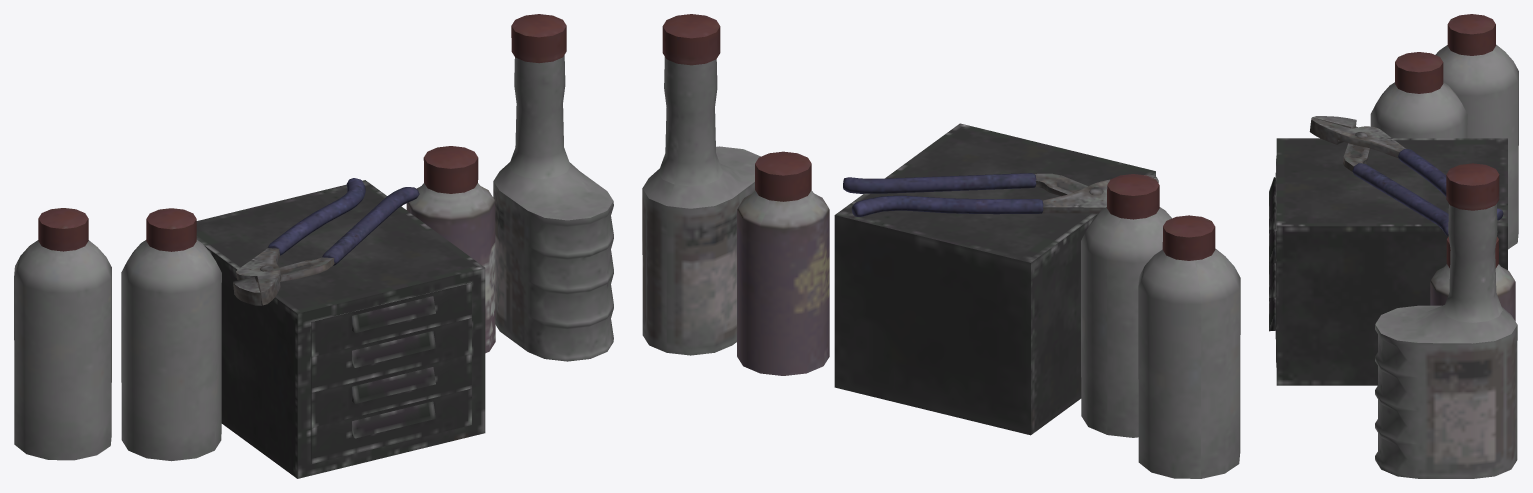
The model's file is sm36_095_tools02a.fbx.
3 views of the same model, side by side, from view 1: azimuth 30°, elevation 25°; view 2: azimuth 150°, elevation 25°; view 3: azimuth 270°, elevation 25° (orthographic). The views are drawn at different scales.
Parts seen in each view (by area): view 1: LOD_1_Group_0_Sub_1__sm36_054_Tools01A_A_Mat; view 2: LOD_1_Group_0_Sub_1__sm36_054_Tools01A_A_Mat; view 3: LOD_1_Group_0_Sub_1__sm36_054_Tools01A_A_Mat.
Part boxes in pixels (box(x1,y1,x2,y2)): LOD_1_Group_0_Sub_1__sm36_054_Tools01A_A_Mat: box(14, 14, 613, 478); LOD_1_Group_0_Sub_1__sm36_054_Tools01A_A_Mat: box(642, 14, 1240, 478); LOD_1_Group_0_Sub_1__sm36_054_Tools01A_A_Mat: box(1269, 14, 1518, 478).
Size of the model in its own units: 0.6525 by 0.335 by 0.262.
